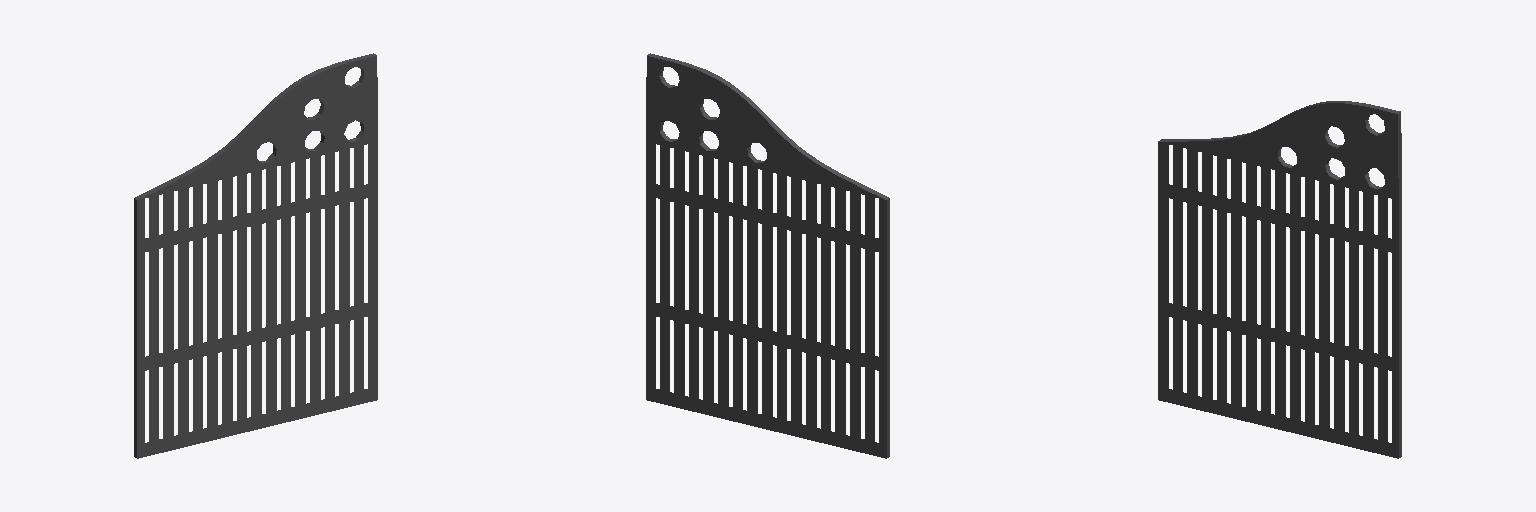
3 views of the same model, side by side, from view 1: azimuth 30°, elevation 25°; view 2: azimuth 150°, elevation 25°; view 3: azimuth 330°, elevation 25° (orthographic).
Parts seen in each view (by area): view 1: Gate_Plane.001; view 2: Gate_Plane.001; view 3: Gate_Plane.001.
Boxes of the visible parts, x1=… form: Gate_Plane.001: x1=134, y1=53, x2=377, y2=458; Gate_Plane.001: x1=646, y1=53, x2=889, y2=458; Gate_Plane.001: x1=1158, y1=101, x2=1401, y2=458.
Bounding box in the file's own units: 5.82 × 7.96 × 0.14.
1 materials, 1 textured.